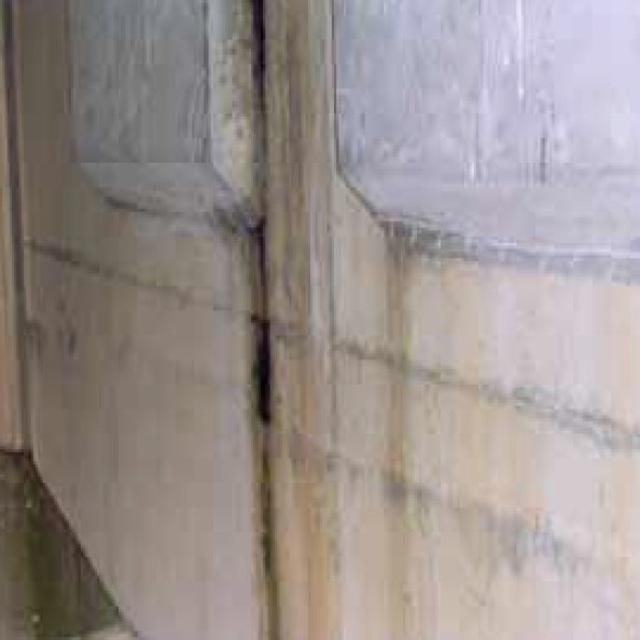leakage: (218, 224, 303, 640)
